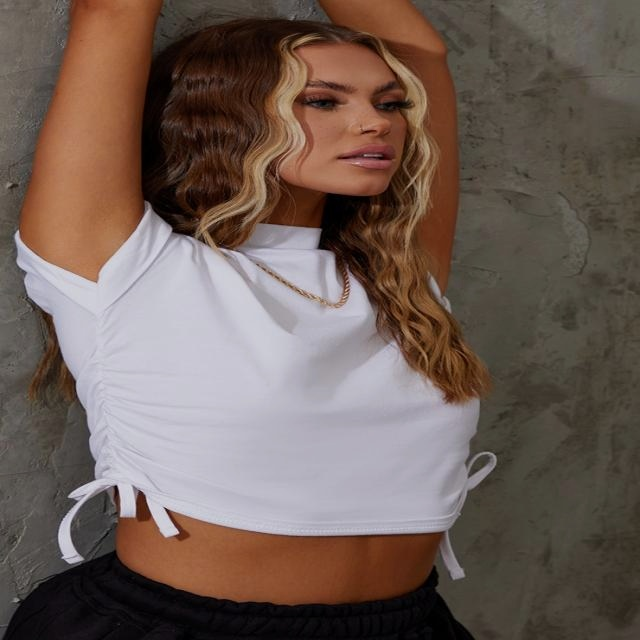Crop_Top: (109, 222, 483, 607)
